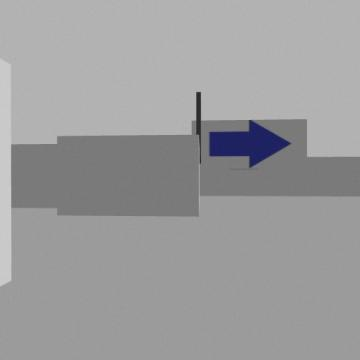blue_right: (209, 121, 290, 166)
